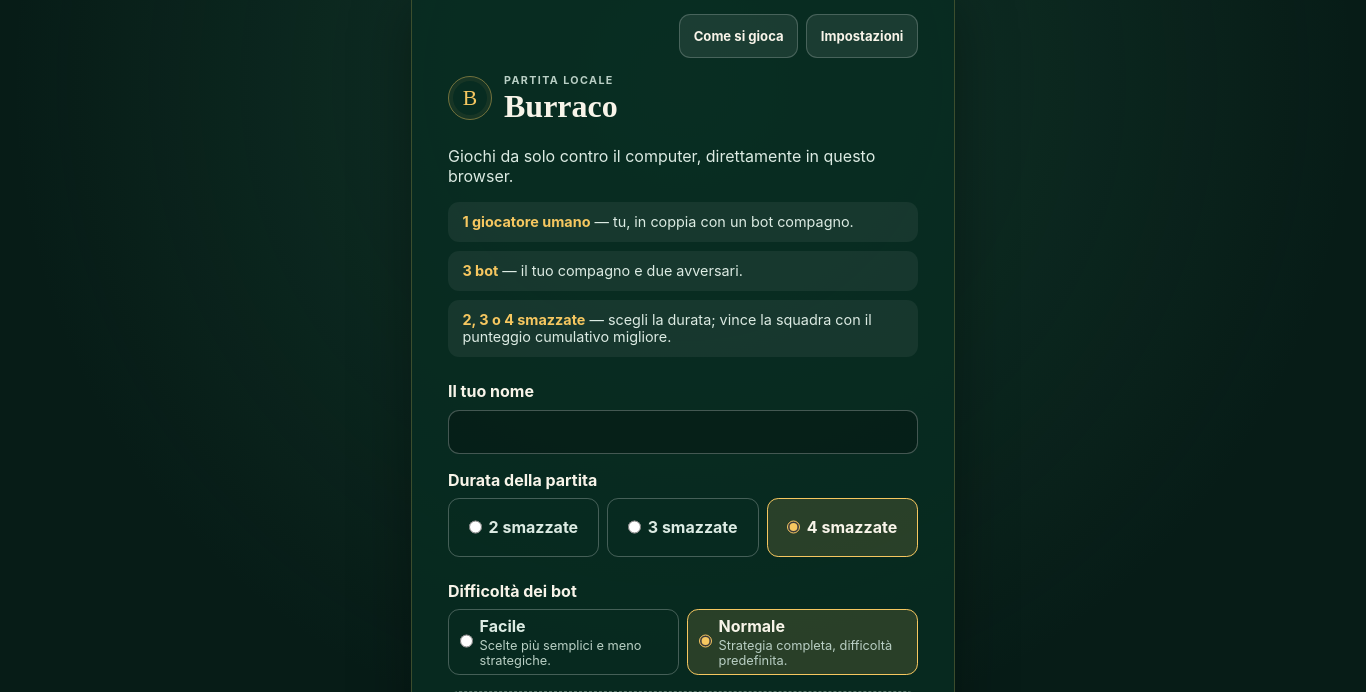
Test case: App contextual guidance (M36) › guides a fresh first match by default without writing any preference
In the field labelled "Il tuo nome": [683, 432] box [448,410,918,454], type "Ada"
(page scrolled)
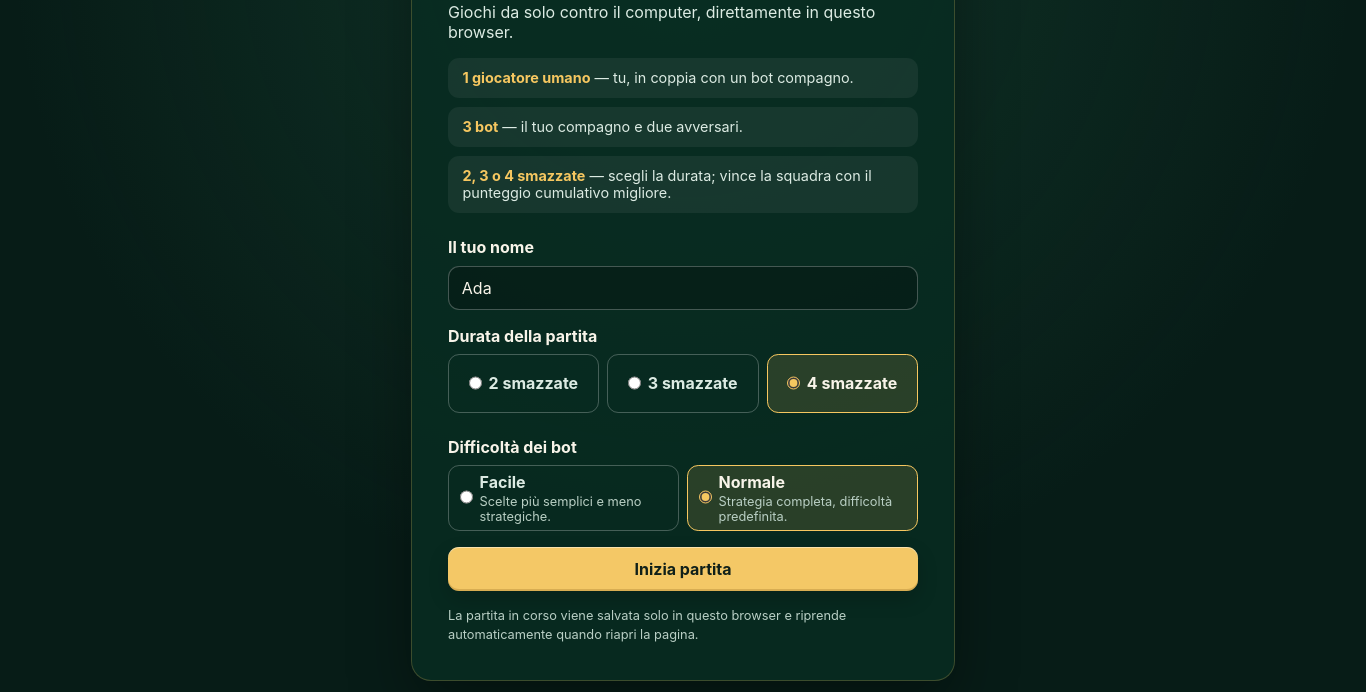
Click the button "Inizia partita": [683, 569] box [448,547,918,591]
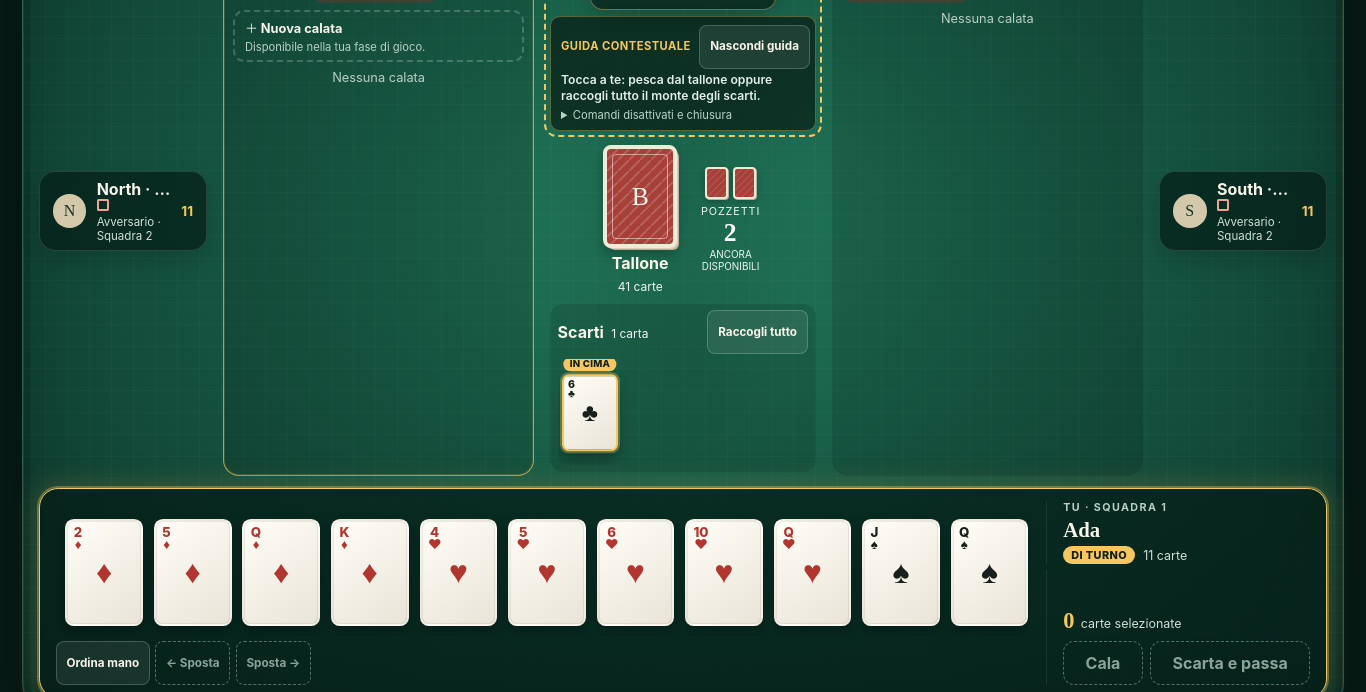
Expected: the element "Guida contestuale" is shown, [550,16,816,131]
